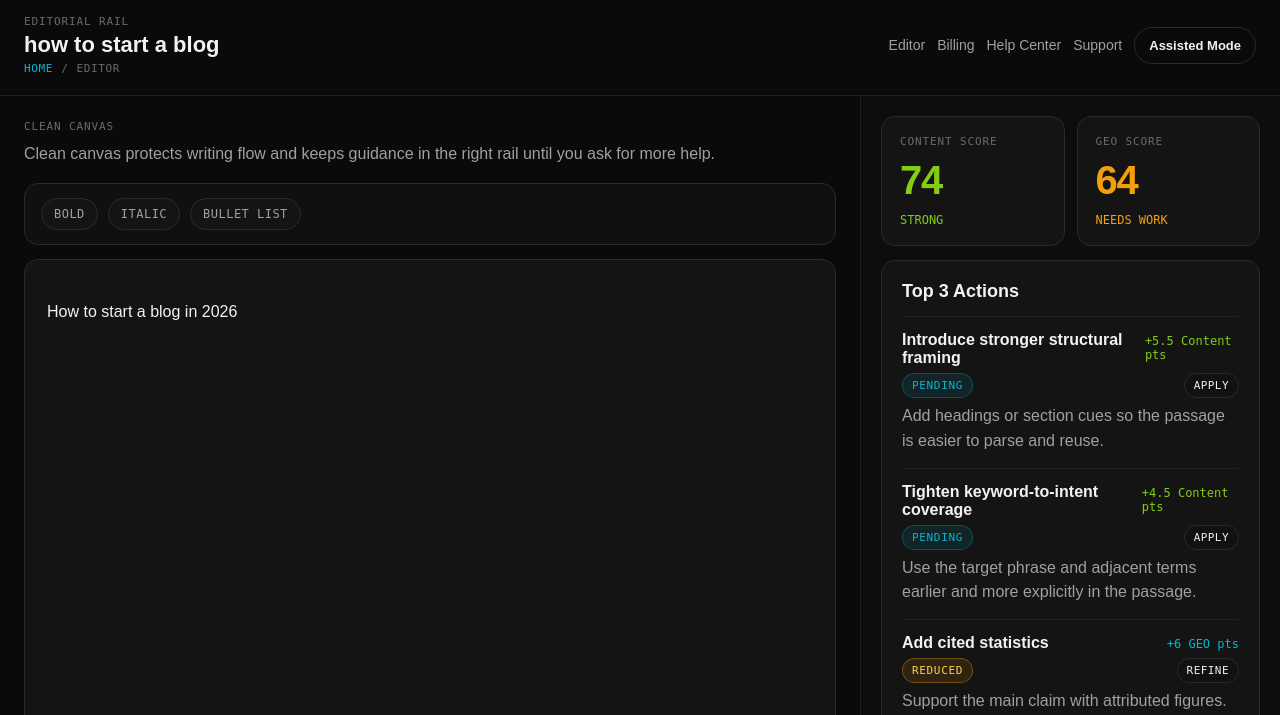
Test case: EditorRail › rescoring the draft refreshes the rail from the canonical score route
Click the button "Assisted Mode": (1195, 45) [1134,26,1256,64]
(page scrolled)
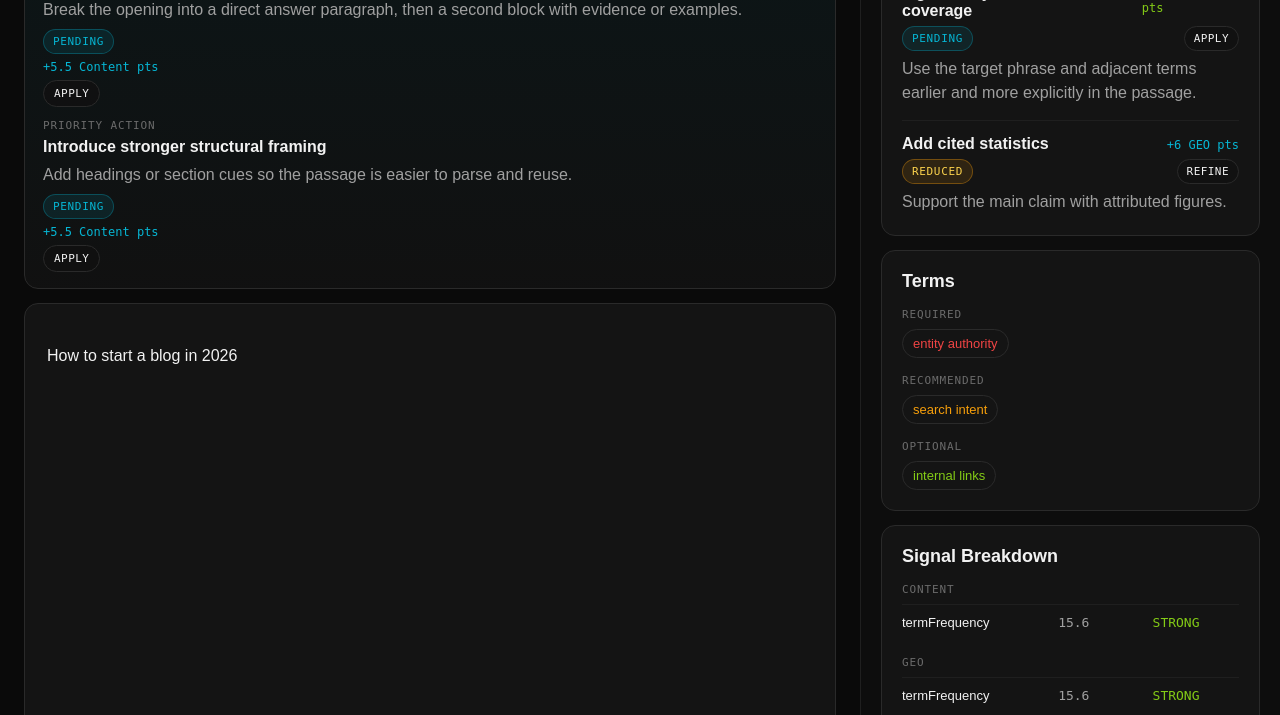
Clear the field named "editor content": (142, 355) [47,347,237,364]
(page scrolled)
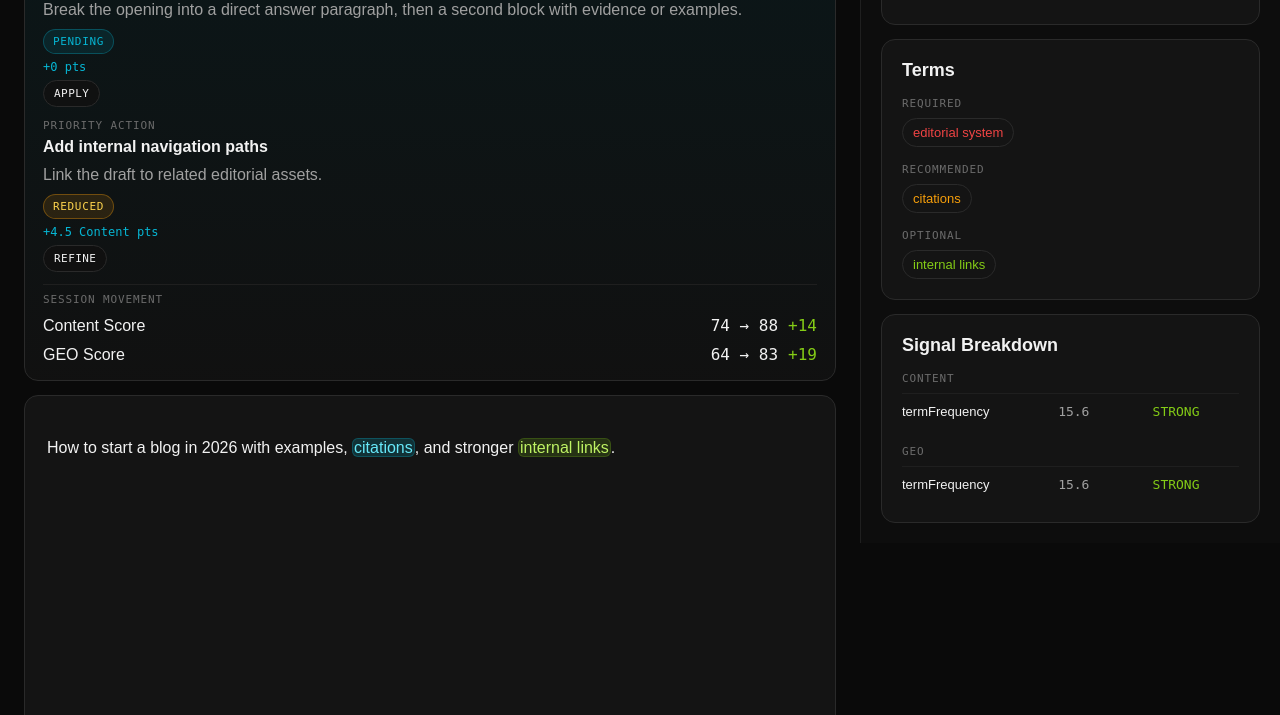
Expected: the text "Session Movement" is shown, [43,293,163,306]
Expected: the text "74 → 88" is shown, [711,316,778,335]
Expected: the text "+14" is shown, [788,316,817,335]
